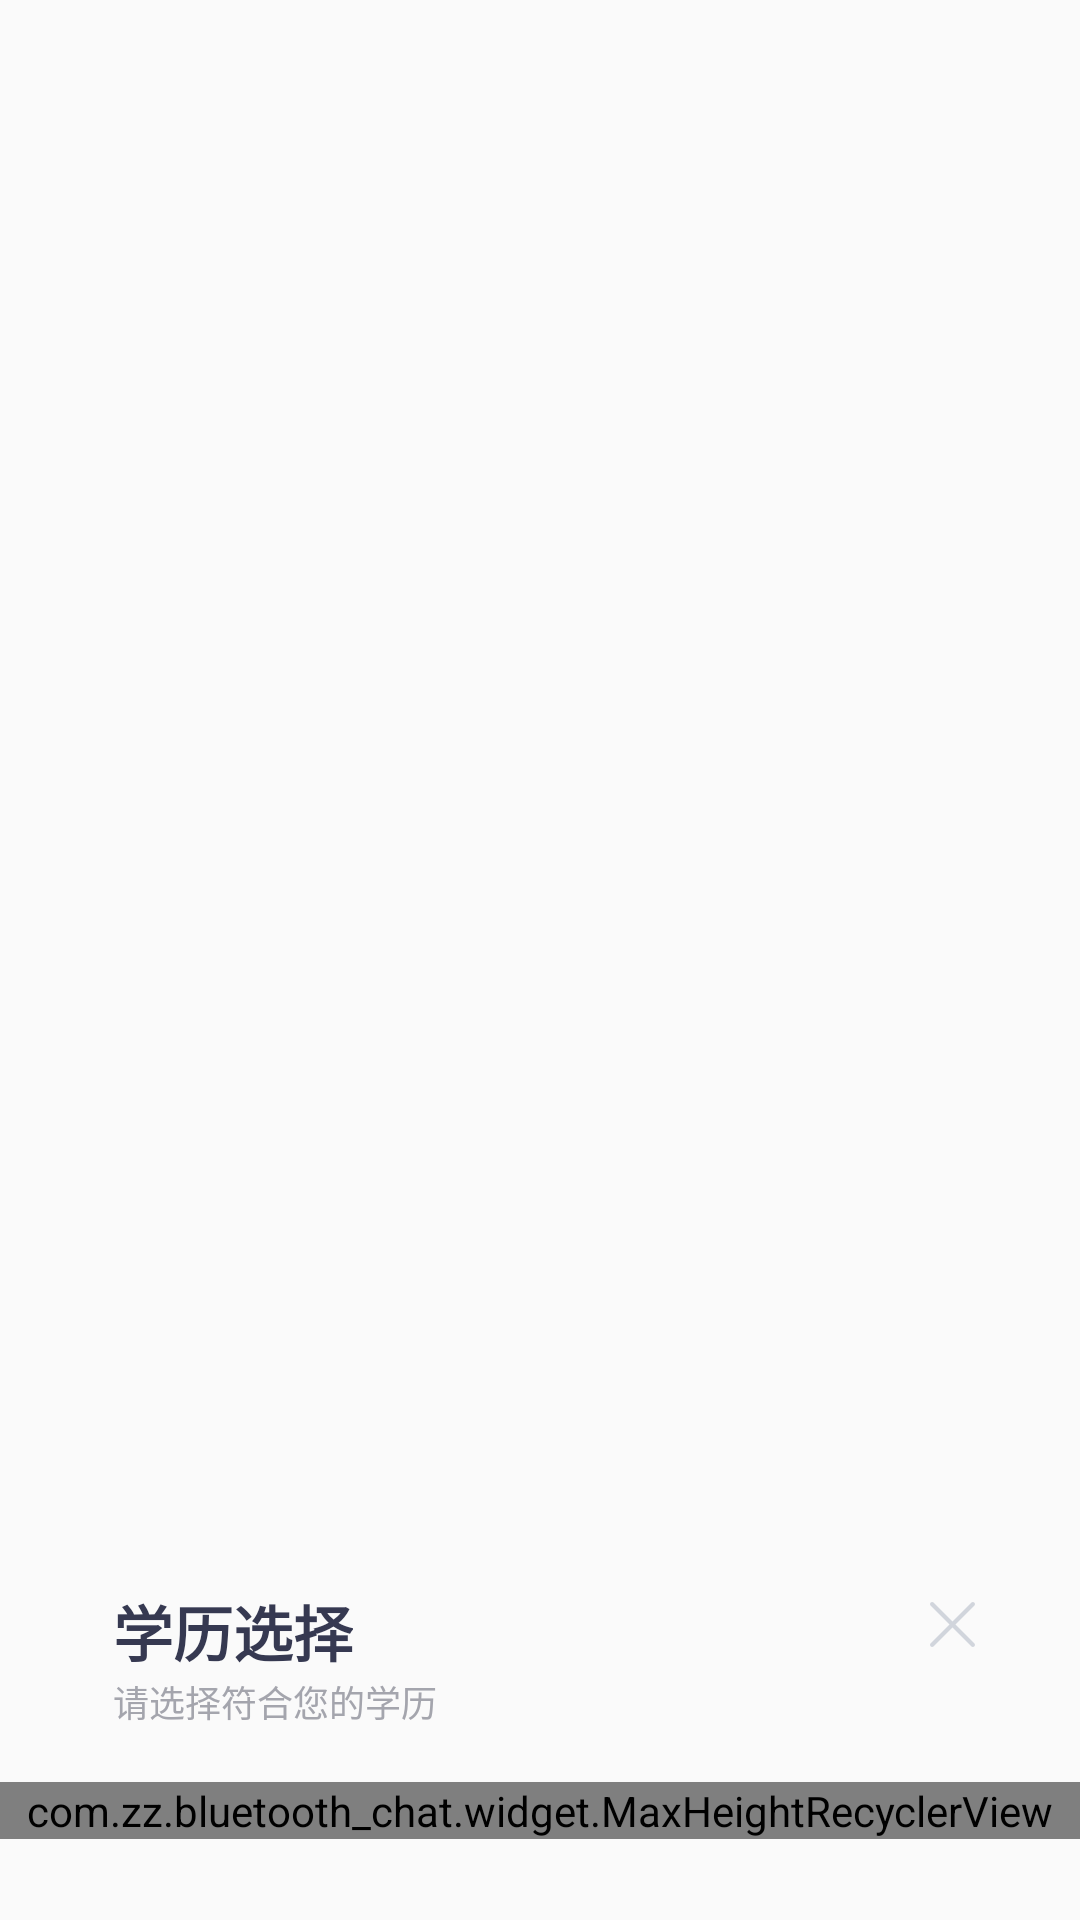

Point at icon controls on the screen. Image size 1080 × 1920, points as [x,y].
popwindow close: [952,1624]
